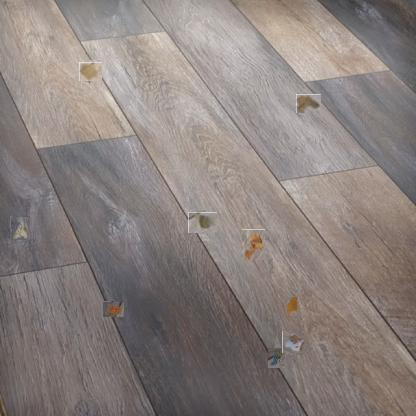dirty: (241, 229, 265, 260), (190, 210, 215, 235), (283, 331, 307, 354), (10, 216, 30, 240), (296, 94, 321, 113), (266, 349, 286, 368), (102, 301, 124, 317)
liquid: (80, 61, 101, 82), (286, 296, 298, 316)
